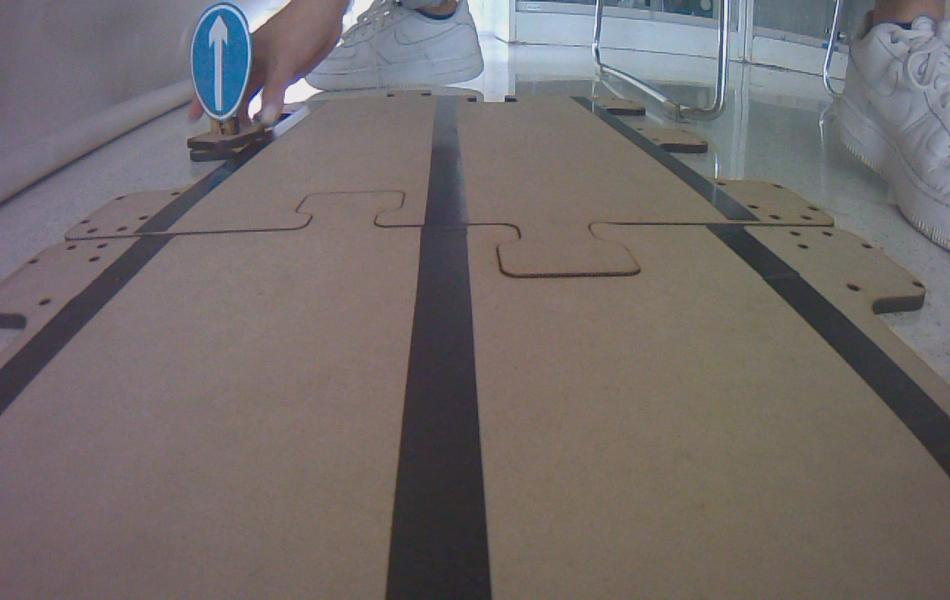straight: (187, 4, 254, 119)
